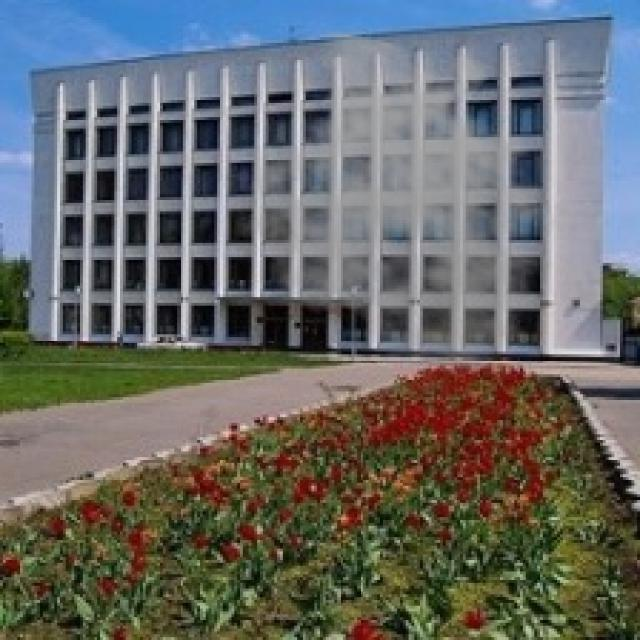Smoke: (231, 29, 583, 378)
